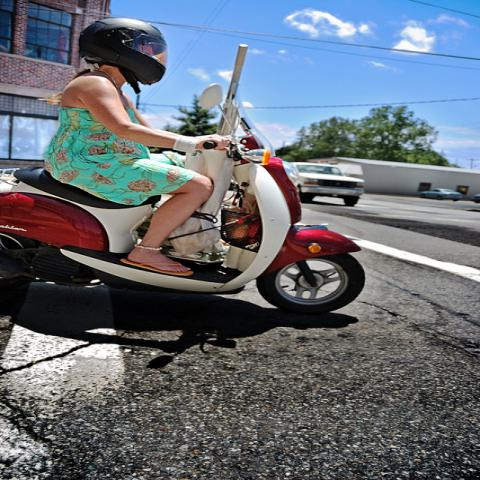car: (289, 162, 367, 206), (419, 188, 463, 200), (474, 193, 480, 203)
motorcycle: (3, 84, 366, 313)
truck: (286, 157, 368, 207)
